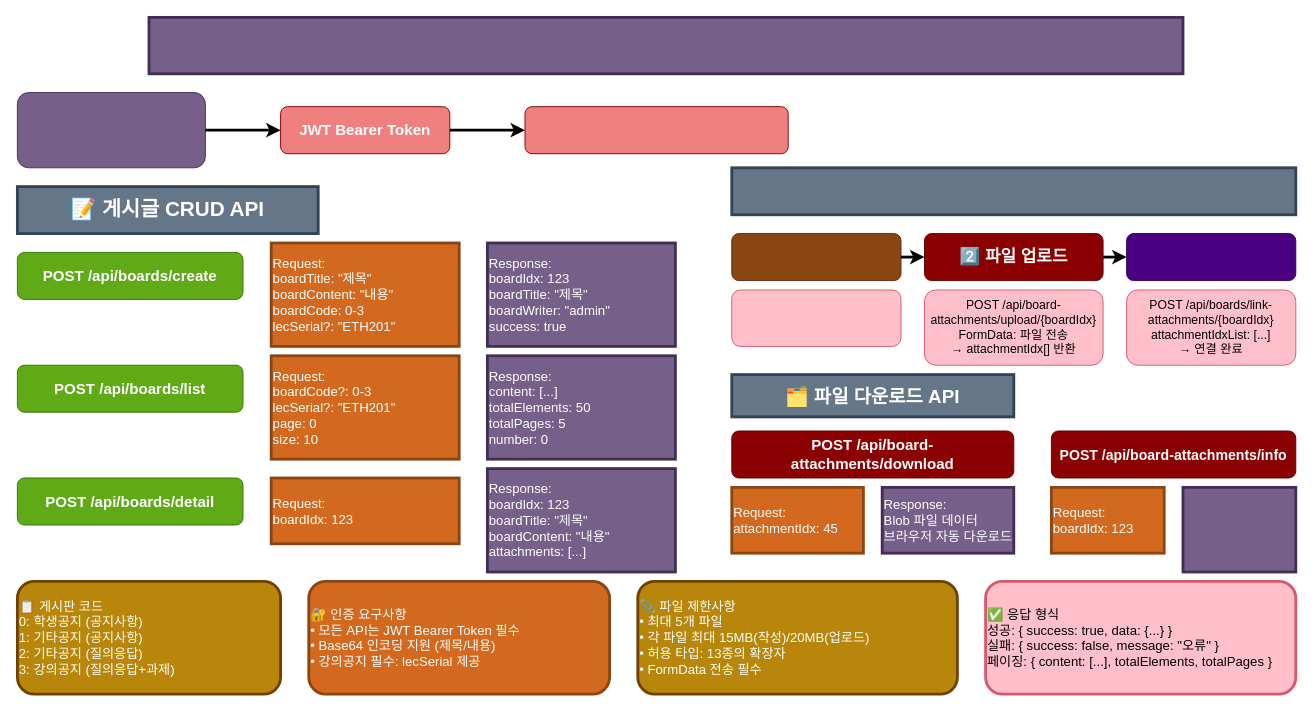
Some shapes in this 1313 by 712 pixel diagram are drawn without their labels. The box of each missing label's shape, as (x1, y1, x2, y2) in pixels:
02. Blue-Crab LMS 게시판 API 플로우: (147, 16, 1184, 75)
1️⃣ 게시글 생성: (731, 233, 901, 281)
3️⃣ 첨부파일 연결: (1126, 233, 1296, 281)
POST /api/boards/create → boardIdx 반환: (731, 289, 901, 346)
Response: attachmentIdx: 45 originalFileName: "문서.pdf" fileSize: 1024: (1181, 486, 1297, 573)
Spring Boot REST API: (524, 106, 788, 154)
클라이언트 (React / 브라우저 콘솔): (16, 92, 205, 168)
📎 첨부파일 API (3단계 워크플로우): (730, 166, 1297, 216)
